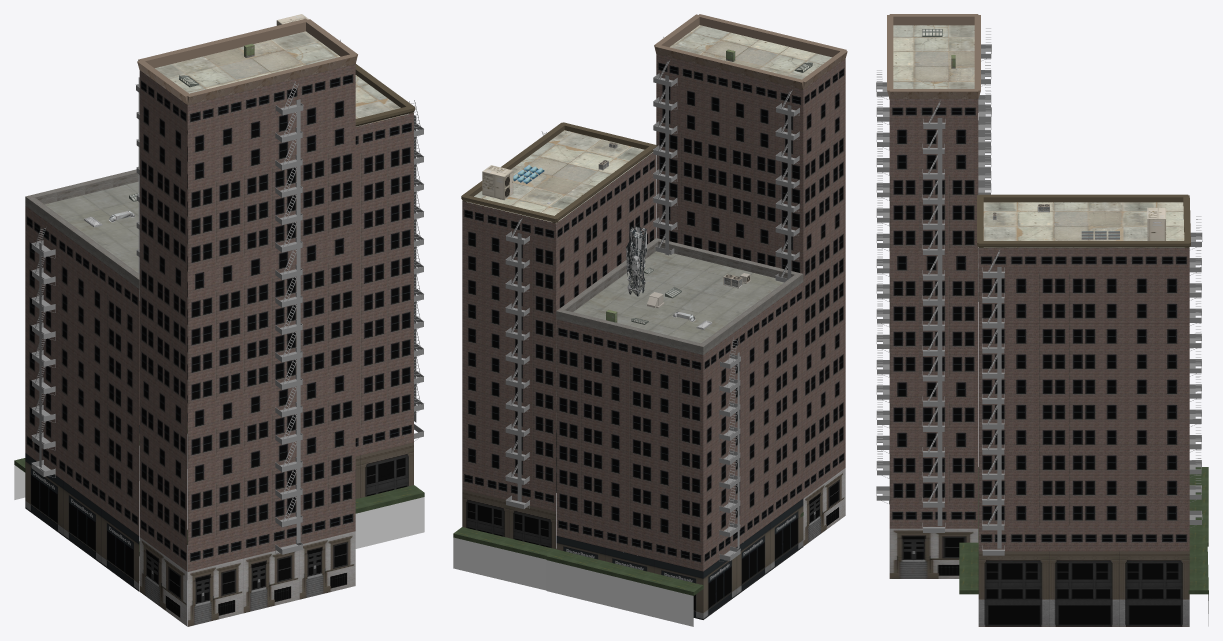
File: building7.gltf
3 views of the same model, side by side, from view 1: azimuth 30°, elevation 25°; view 2: azimuth 150°, elevation 25°; view 3: azimuth 270°, elevation 25° (orthographic). The views are drawn at different scales.
Visible parts, largest first — view 1: Object_122.003; view 2: Object_122.003, Object_95.003, Object_79.001; view 3: Object_122.003, Object_79.001.
Boxes of the visible parts, bbox=[...] form: Object_122.003: bbox=[14, 18, 424, 626]; Object_122.003: bbox=[453, 14, 847, 626]; Object_95.003: bbox=[626, 226, 646, 296]; Object_79.001: bbox=[482, 165, 513, 200]; Object_122.003: bbox=[876, 14, 1208, 626]; Object_79.001: bbox=[1147, 207, 1165, 240].
Bounding box in the file's own units: 34.3 × 58.22 × 35.8.
Materials: 20 (13 with a texture image).
